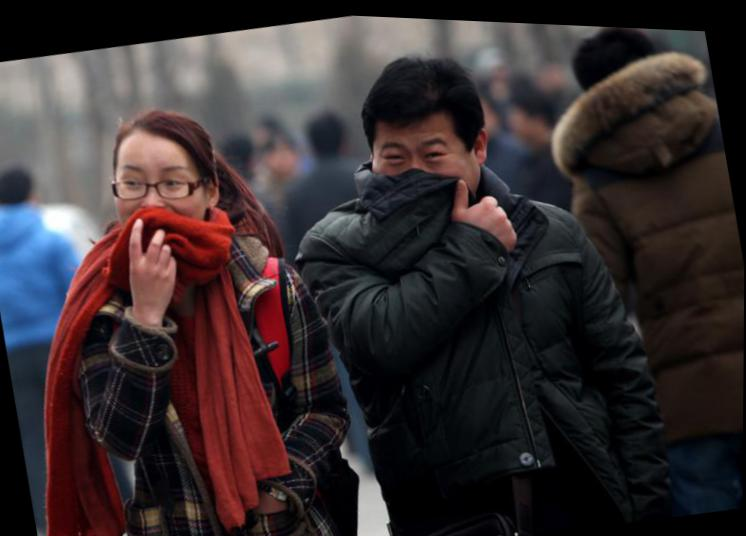NONE: (370, 114, 480, 225)
WRONG: (112, 148, 205, 244)
